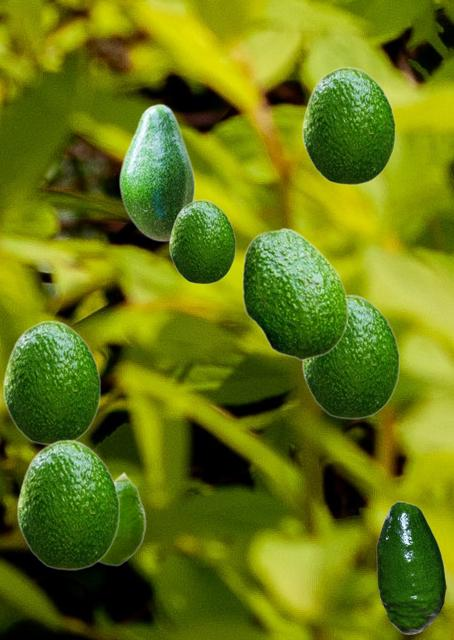avocado: (241, 227, 347, 359), (17, 439, 119, 569), (302, 294, 399, 418), (3, 320, 100, 444), (302, 66, 395, 184), (118, 103, 194, 241), (376, 501, 445, 633), (169, 199, 235, 283), (99, 471, 145, 565)
